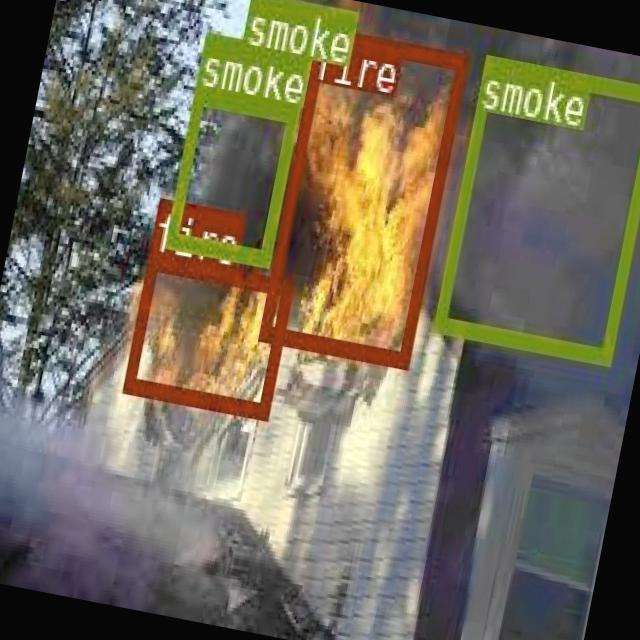fire: (258, 23, 467, 364), (121, 251, 292, 415)
smoke: (433, 51, 640, 361), (165, 84, 298, 264), (237, 0, 318, 69)
